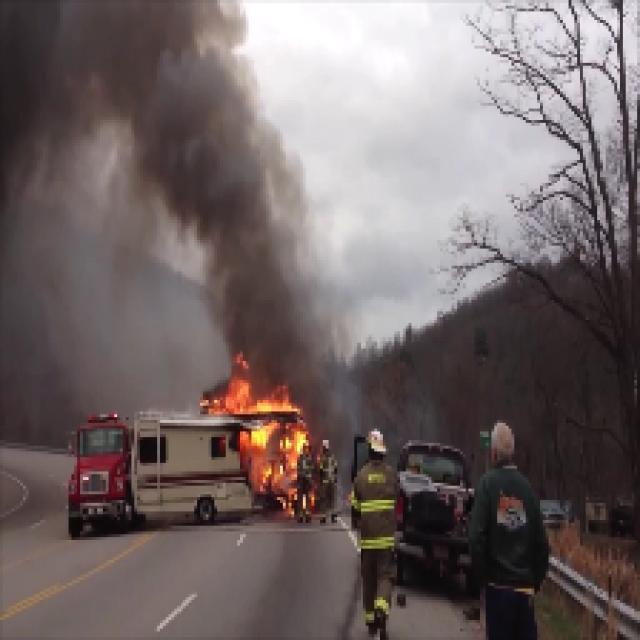Fire: (219, 370, 309, 483)
Smoke: (142, 7, 300, 368), (1, 6, 130, 124)
